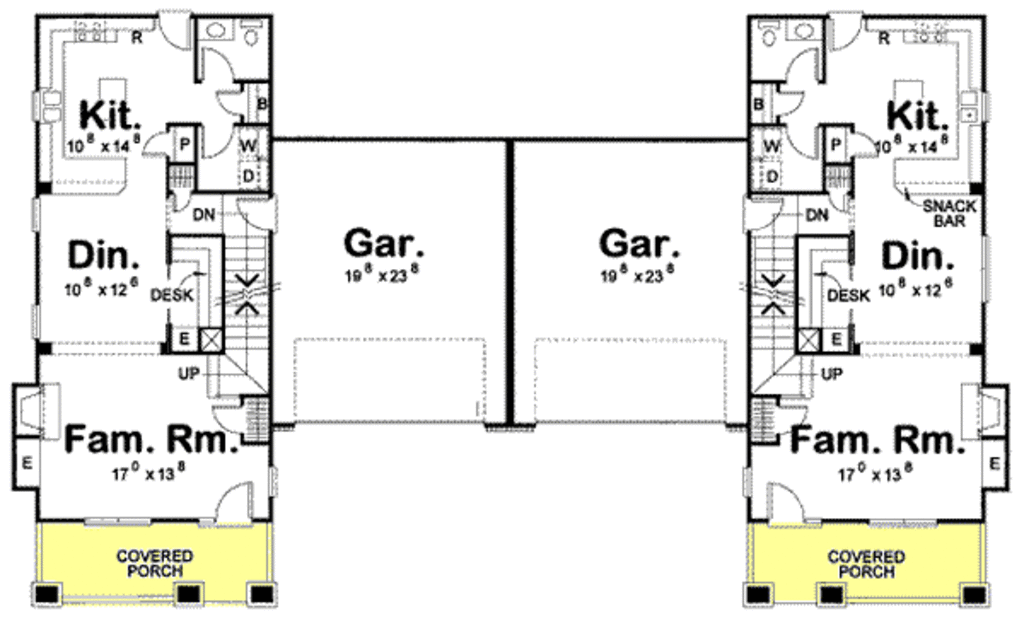door: (206, 472, 258, 526), (764, 479, 811, 529), (151, 4, 193, 54), (736, 195, 789, 232), (194, 119, 234, 164), (829, 7, 868, 53), (195, 42, 237, 83), (776, 396, 812, 443), (783, 121, 824, 162), (131, 127, 181, 157), (784, 45, 821, 85), (212, 396, 247, 435), (773, 83, 808, 117), (851, 125, 884, 160), (825, 189, 861, 218), (164, 185, 198, 215), (214, 85, 249, 114)
large_sink: (235, 12, 266, 49), (755, 10, 780, 53)
small_sink: (189, 16, 234, 37), (784, 18, 824, 41)
stairs: (166, 208, 272, 393), (751, 224, 834, 399)
twin_sink: (26, 85, 77, 131), (955, 82, 989, 129)
window: (861, 514, 942, 531), (978, 234, 993, 306), (29, 188, 45, 239), (79, 515, 155, 525), (26, 302, 43, 341)
